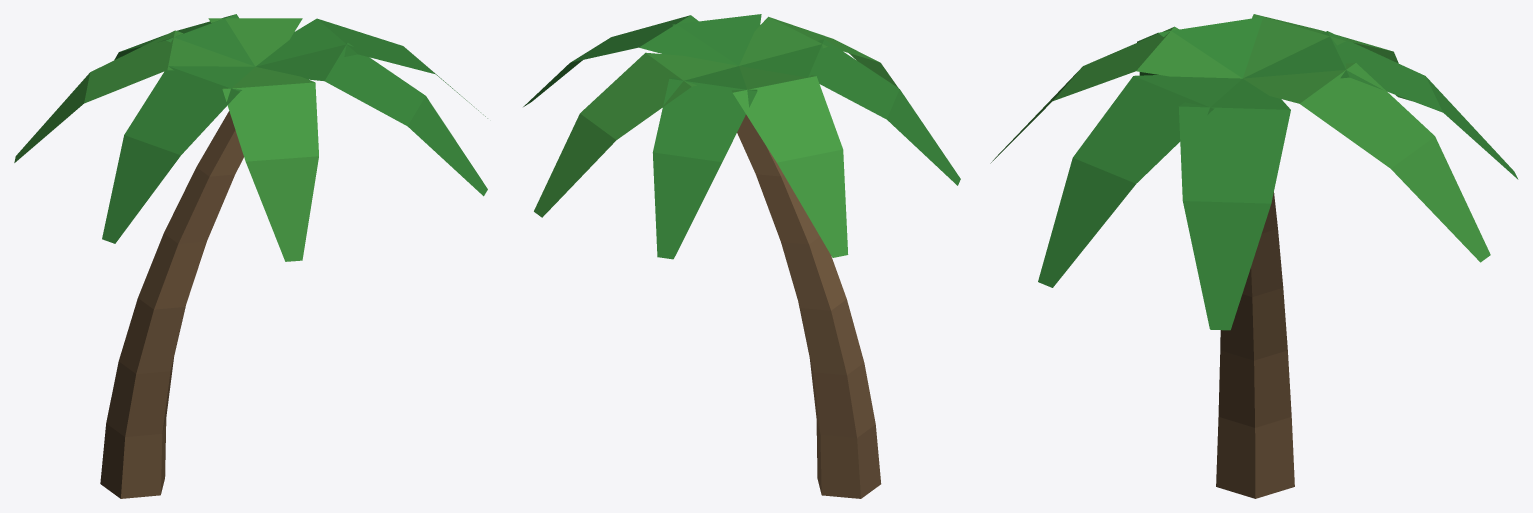
File: TreePalm_B.fbx
3 views of the same model, side by side, from view 1: azimuth 30°, elevation 25°; view 2: azimuth 150°, elevation 25°; view 3: azimuth 270°, elevation 25° (orthographic). The views are drawn at different scales.
Parts seen in each view (by area): view 1: TreePalm_B; view 2: TreePalm_B; view 3: TreePalm_B.
Part boxes in pixels (<box>): TreePalm_B: <box>14,14,487,498</box>; TreePalm_B: <box>523,14,960,498</box>; TreePalm_B: <box>990,14,1518,498</box>.
Size of the model in its own units: 3838 by 3620 by 3575.
